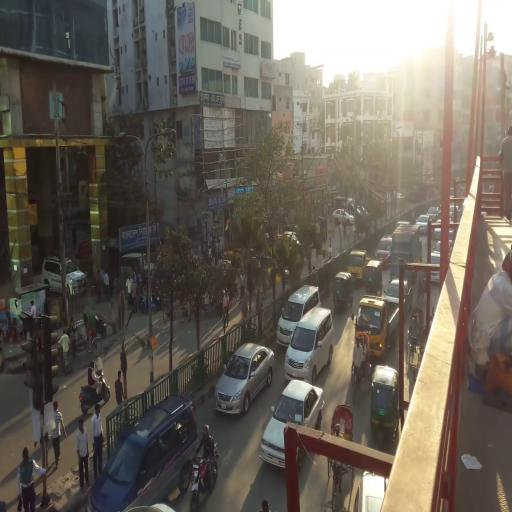car: (261, 377, 329, 480), (215, 336, 277, 419), (384, 276, 414, 307), (427, 252, 445, 285), (376, 233, 392, 269), (332, 208, 355, 229), (417, 214, 433, 235), (428, 206, 439, 223)
minivan: (85, 392, 195, 510), (287, 306, 338, 390), (120, 251, 157, 285)
motorbike: (190, 423, 223, 510)
pickup: (348, 247, 373, 285)
rickshaw: (321, 398, 357, 512), (59, 309, 104, 365), (350, 330, 373, 400), (406, 302, 424, 378)
scooter: (79, 356, 114, 414), (138, 290, 157, 315)
suv: (277, 284, 326, 343), (42, 256, 88, 299)
three wheelers (CNG): (370, 363, 400, 450), (332, 268, 356, 319), (364, 260, 383, 298)
truck: (355, 294, 408, 361), (389, 220, 422, 294)
